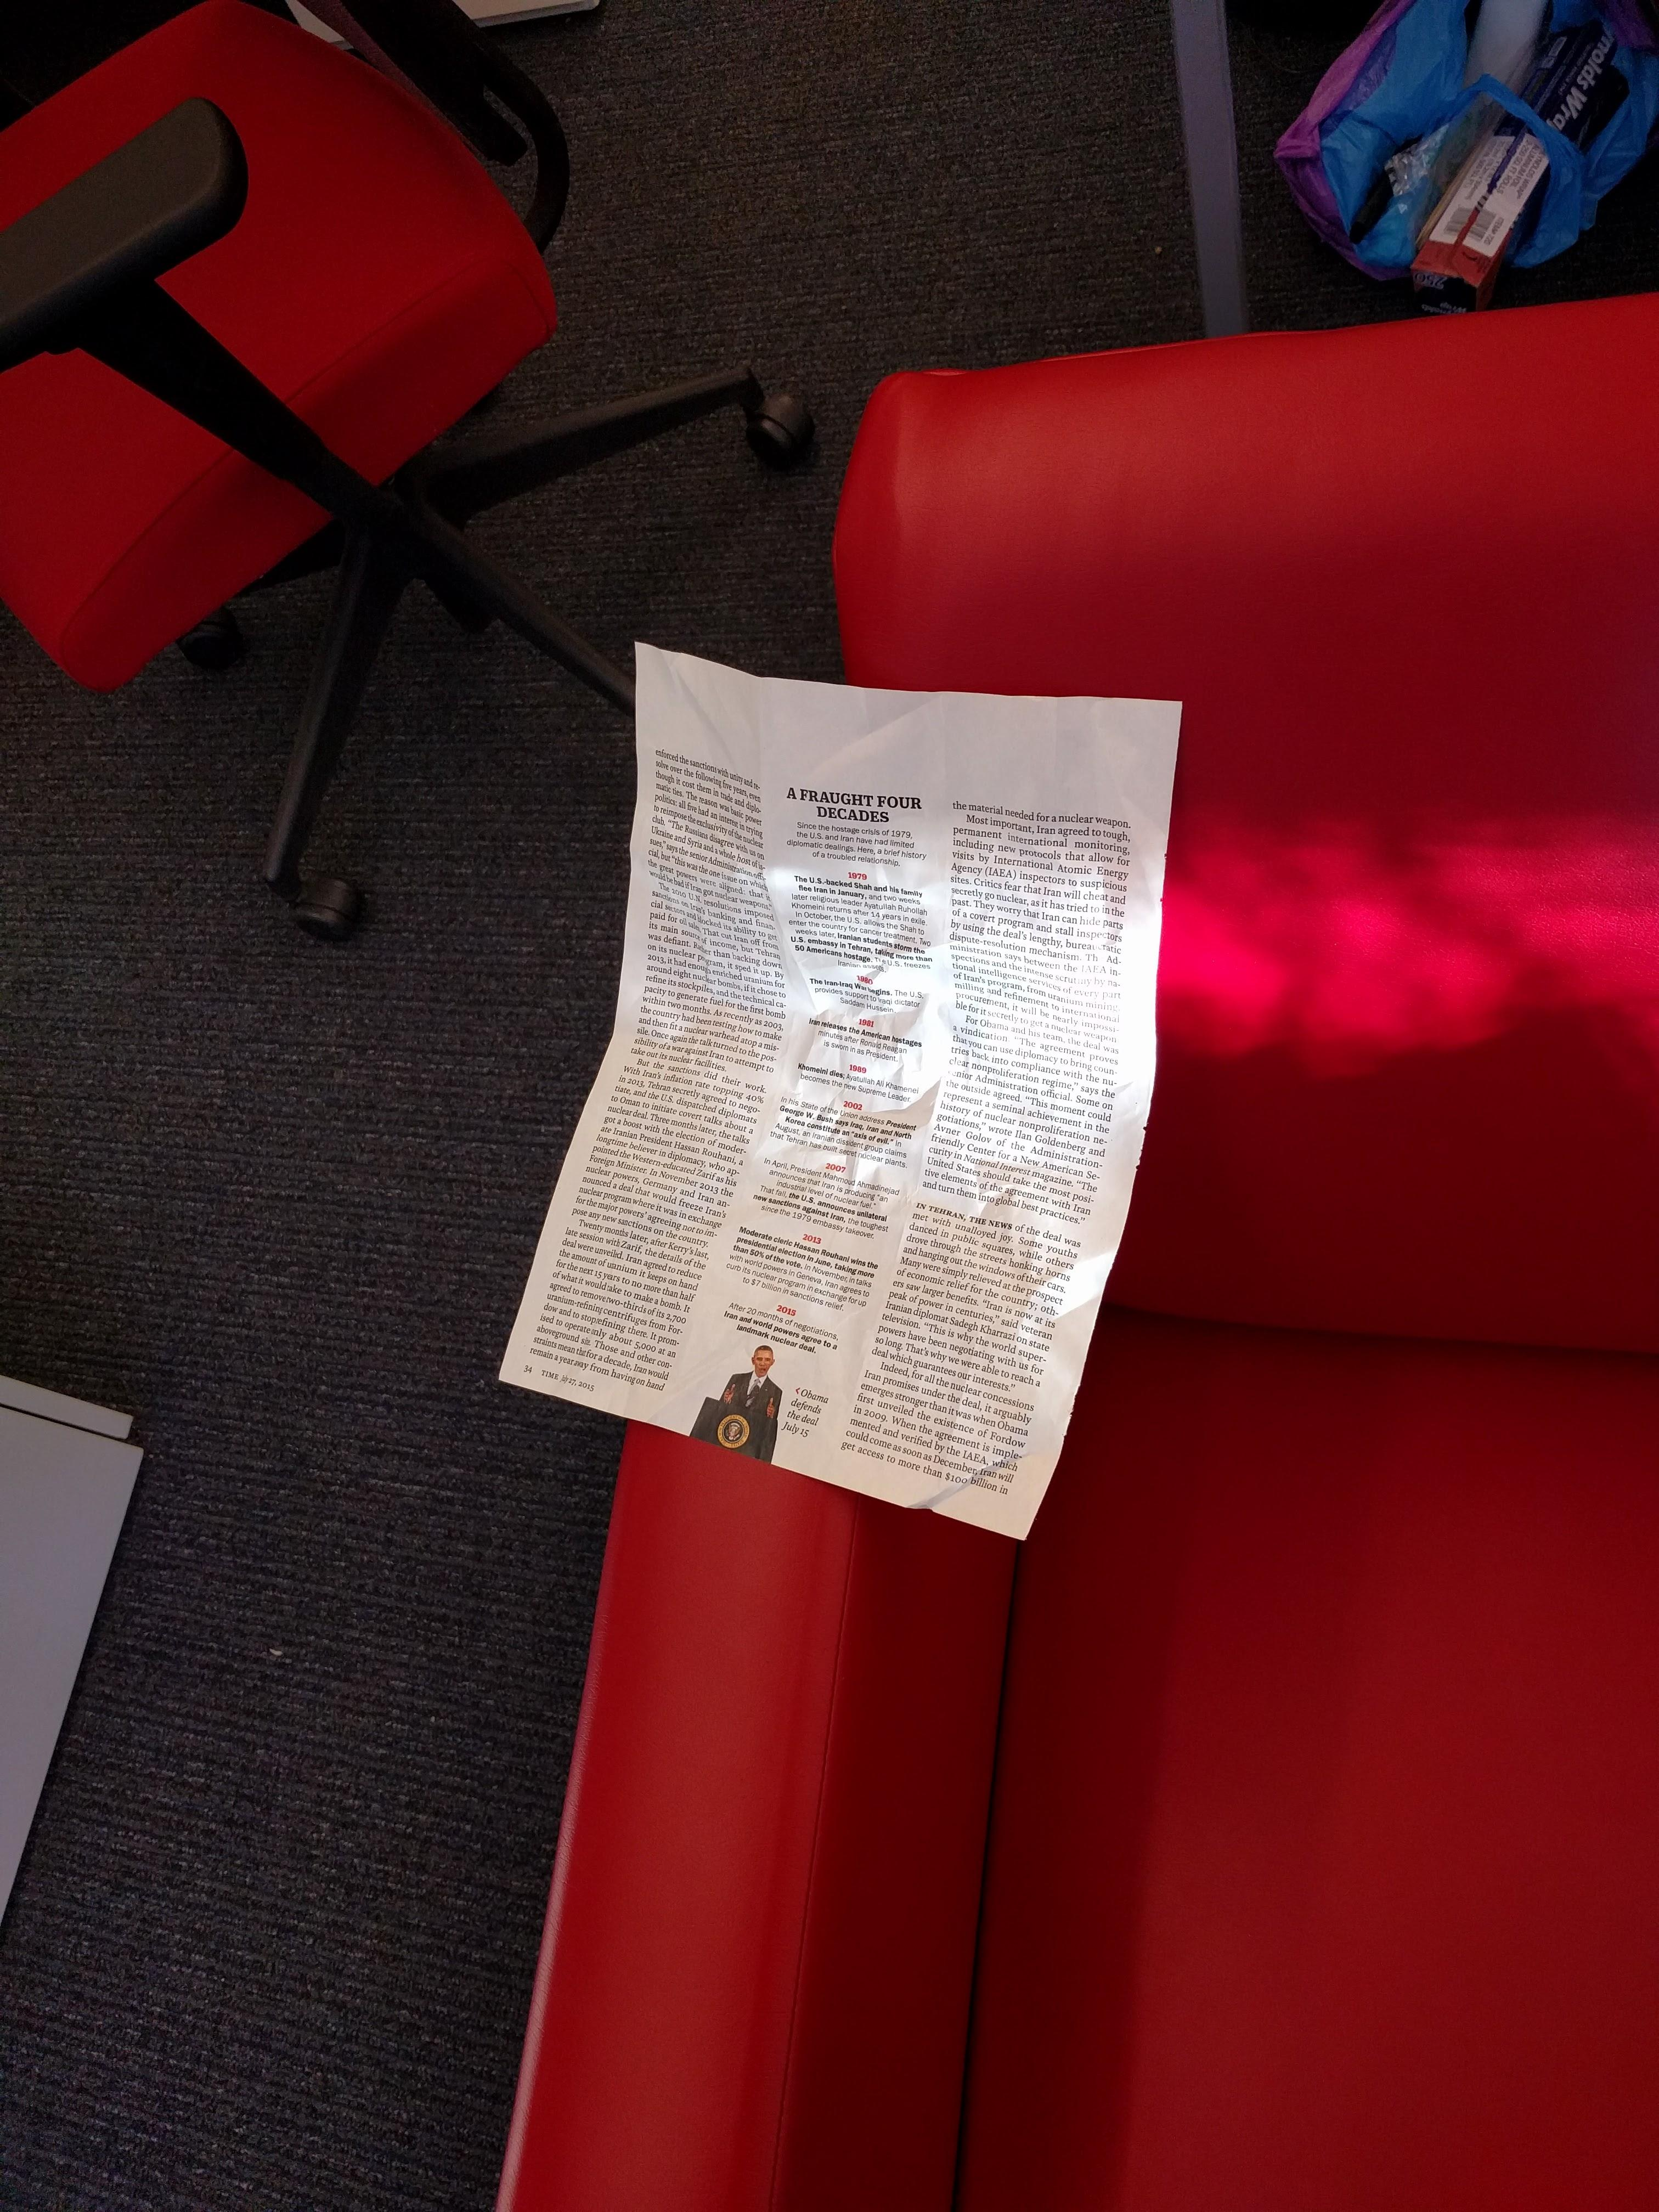paper: (444, 538, 1443, 1803)
